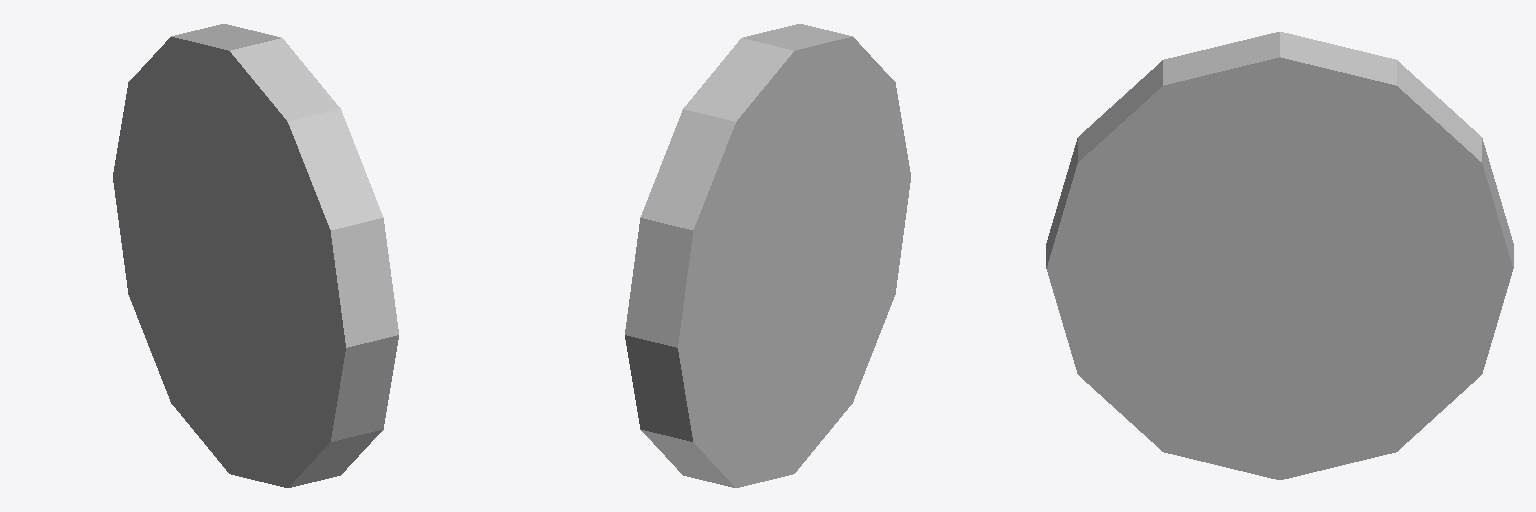
Rendered from race_waypoint_trigger.obj.
3 views of the same model, side by side, from view 1: azimuth 30°, elevation 25°; view 2: azimuth 150°, elevation 25°; view 3: azimuth 270°, elevation 25° (orthographic).
Parts seen in each view (by area): view 1: Cylinder_Cylinder.001; view 2: Cylinder_Cylinder.001; view 3: Cylinder_Cylinder.001.
Part boxes in pixels (x1,y1,x2,y2): Cylinder_Cylinder.001: (113,24,398,487); Cylinder_Cylinder.001: (625,24,910,487); Cylinder_Cylinder.001: (1046,32,1513,479).
Bounding box in the file's own units: 0.6076 × 4.63 × 4.63.